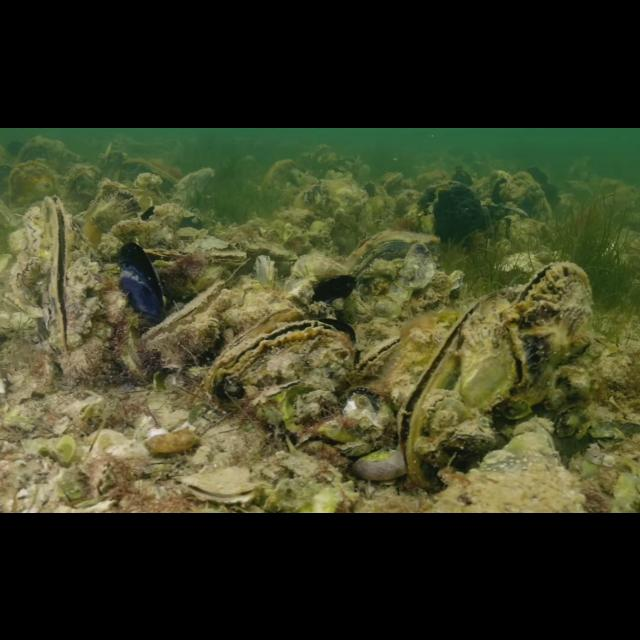Oyster-Closed: (142, 276, 226, 342), (341, 230, 441, 278), (114, 240, 166, 328), (144, 236, 246, 266), (2, 288, 46, 318), (420, 387, 460, 418), (22, 206, 46, 254), (334, 437, 376, 457), (16, 256, 44, 282)
Oyster-Open: (398, 283, 524, 491), (511, 258, 594, 396), (210, 319, 356, 397), (36, 192, 82, 356), (181, 462, 261, 506), (355, 335, 403, 375)
